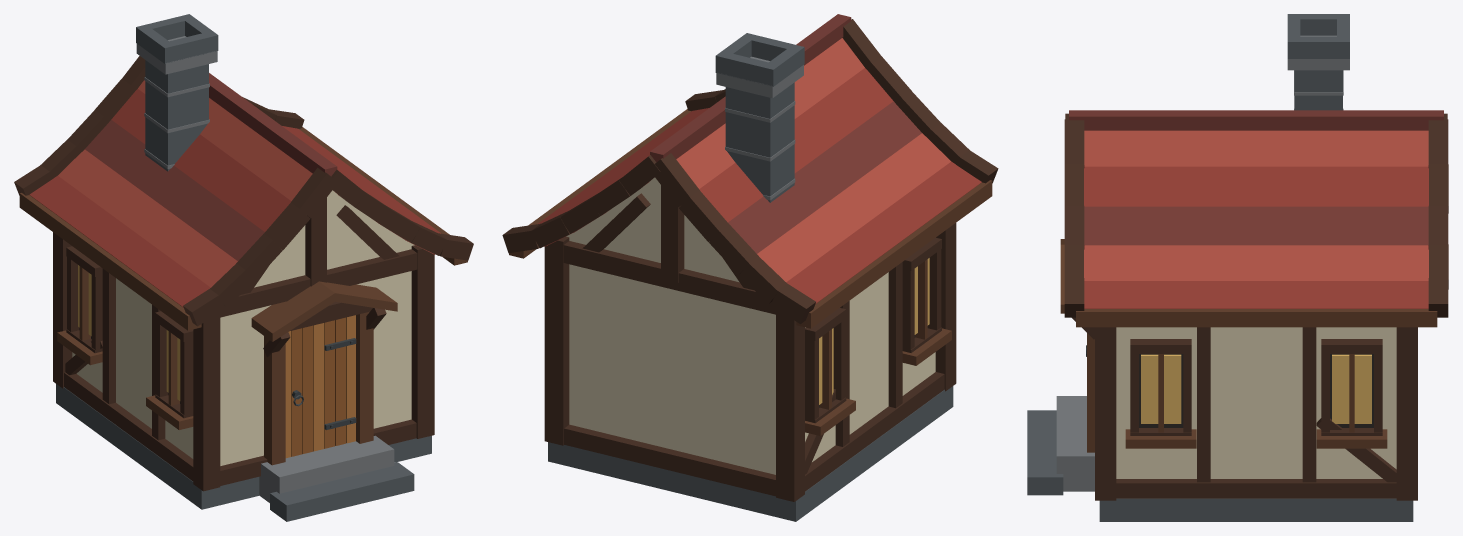
The model's file is 11_woodland_cottage.fbx.
3 views of the same model, side by side, from view 1: azimuth 30°, elevation 25°; view 2: azimuth 150°, elevation 25°; view 3: azimuth 270°, elevation 25° (orthographic). The views are drawn at different scales.
Parts seen in each view (by area): view 1: 11_woodland_cottage; view 2: 11_woodland_cottage; view 3: 11_woodland_cottage.
Boxes of the visible parts, x1=… form: 11_woodland_cottage: x1=14, y1=14, x2=473, y2=521; 11_woodland_cottage: x1=502, y1=14, x2=998, y2=521; 11_woodland_cottage: x1=1027, y1=14, x2=1448, y2=521.
Bounding box in the file's own units: 4.1 × 5.36 × 4.94.
1 material, 1 textured.
